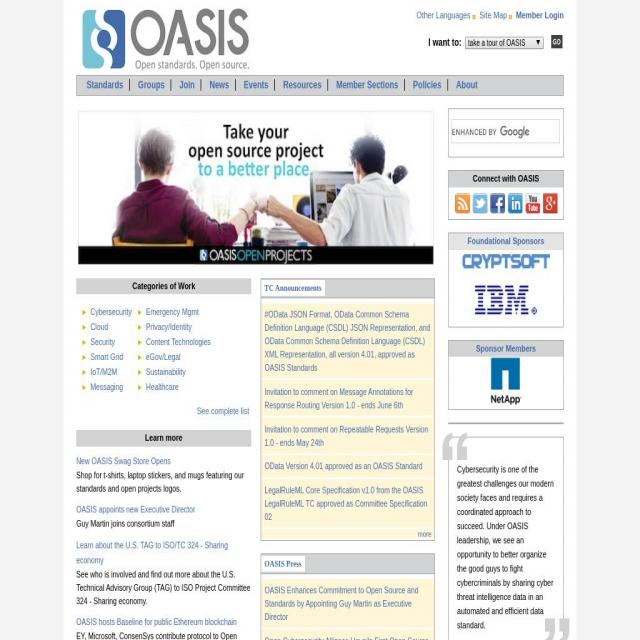button: (76, 7, 262, 72), (466, 280, 550, 321), (483, 356, 531, 407), (457, 250, 554, 275), (331, 70, 401, 95), (276, 73, 326, 94), (76, 77, 127, 97), (406, 75, 444, 94), (452, 75, 484, 94), (239, 77, 272, 94), (133, 77, 168, 93), (203, 76, 233, 94), (174, 77, 198, 94), (472, 192, 488, 214), (542, 192, 558, 214), (455, 192, 470, 214), (490, 192, 505, 214), (525, 192, 540, 214), (508, 192, 522, 214), (552, 34, 564, 48)
field: (452, 124, 557, 139), (464, 37, 544, 50)
